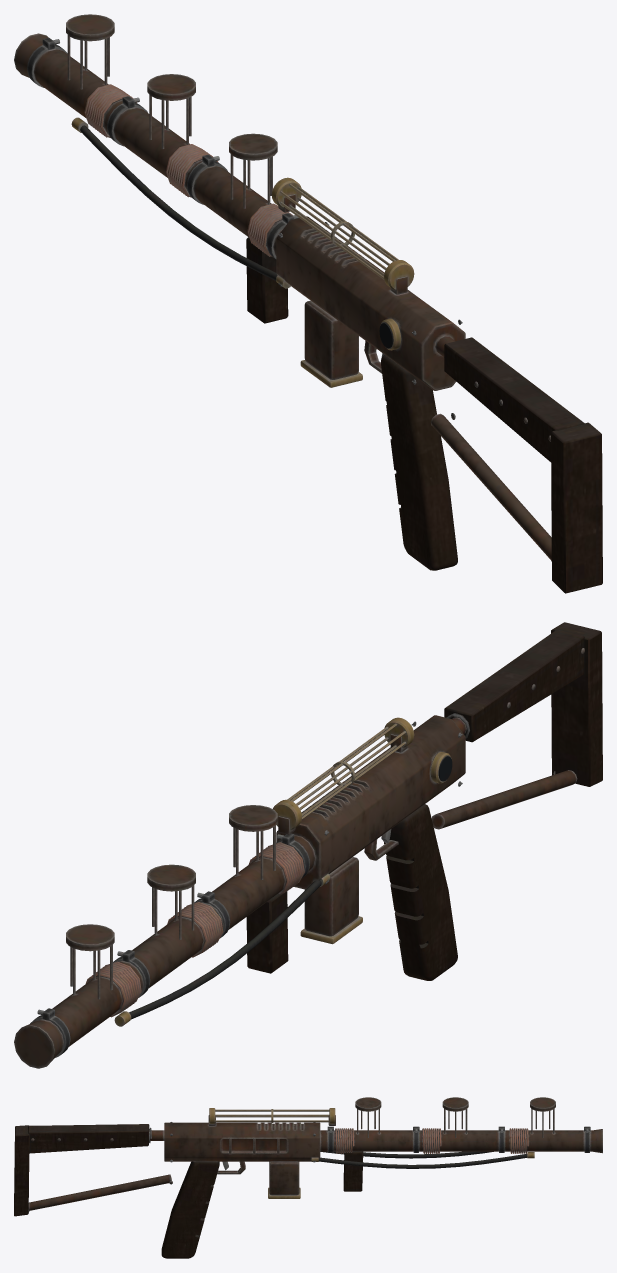
Rendered from raider_beam_rifle.glb.
3 views of the same model, one above another, from view 1: azimuth 30°, elevation 25°; view 2: azimuth 150°, elevation 25°; view 3: azimuth 270°, elevation 25° (orthographic). The views are drawn at different scales.
Parts seen in each view (by area): view 1: raider_beam_rifle; view 2: raider_beam_rifle; view 3: raider_beam_rifle.
Part boxes in pixels (<box>): raider_beam_rifle: <box>14,14,602,593</box>; raider_beam_rifle: <box>14,622,602,1068</box>; raider_beam_rifle: <box>14,1097,602,1258</box>.
Bounding box in the file's own units: 0.067 × 0.324 × 1.13.
Materials: 1 (1 with a texture image).
